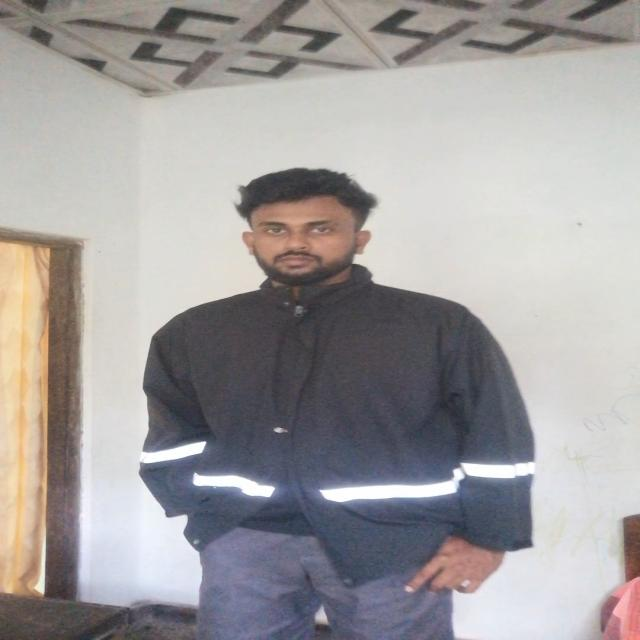Jacket_Wearer: (93, 278, 577, 563)
